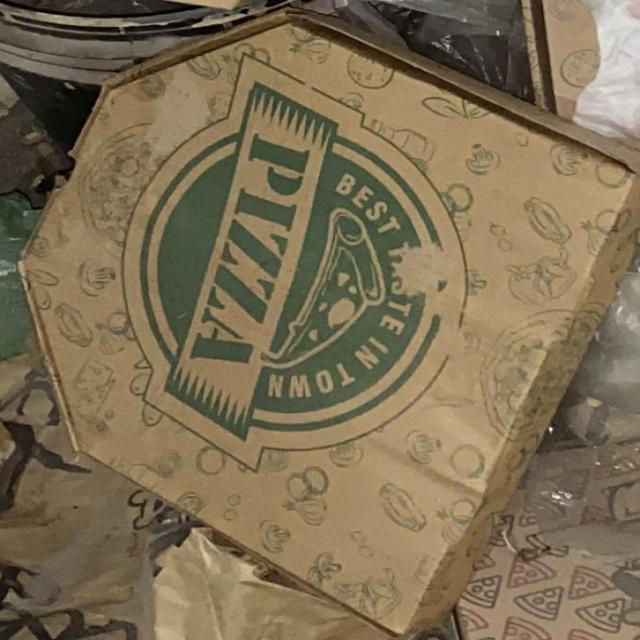electronic: (14, 10, 640, 640), (0, 0, 302, 11)
